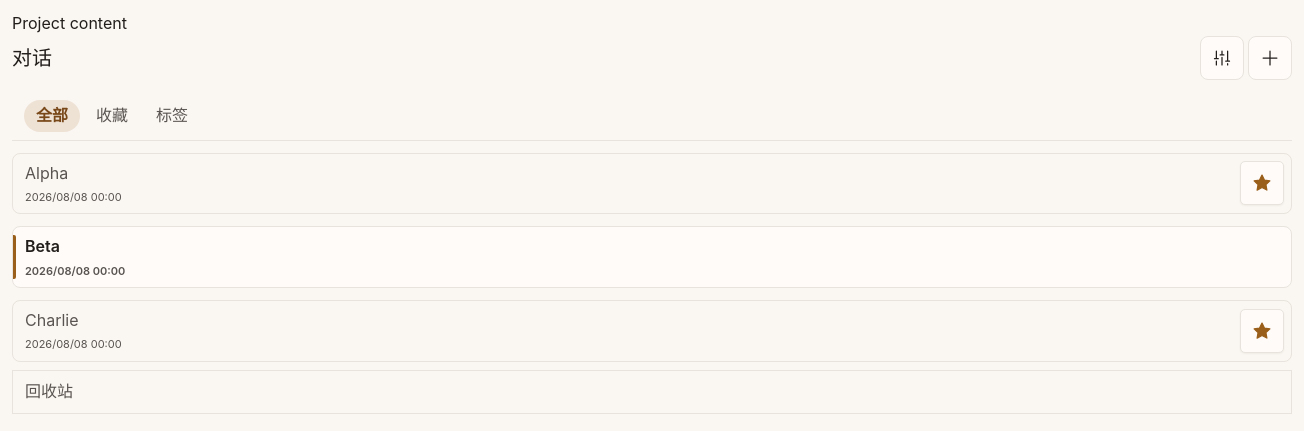
Test case: thread favorites UI › filters the favorites view with server order, removes unfavorited threads, and shows an empty state
Expected: the button "Beta 2026/08/08 00:00" is shown, [12,226,1292,288]
Click the tab "收藏" at (112,116), box [84,100,140,132]
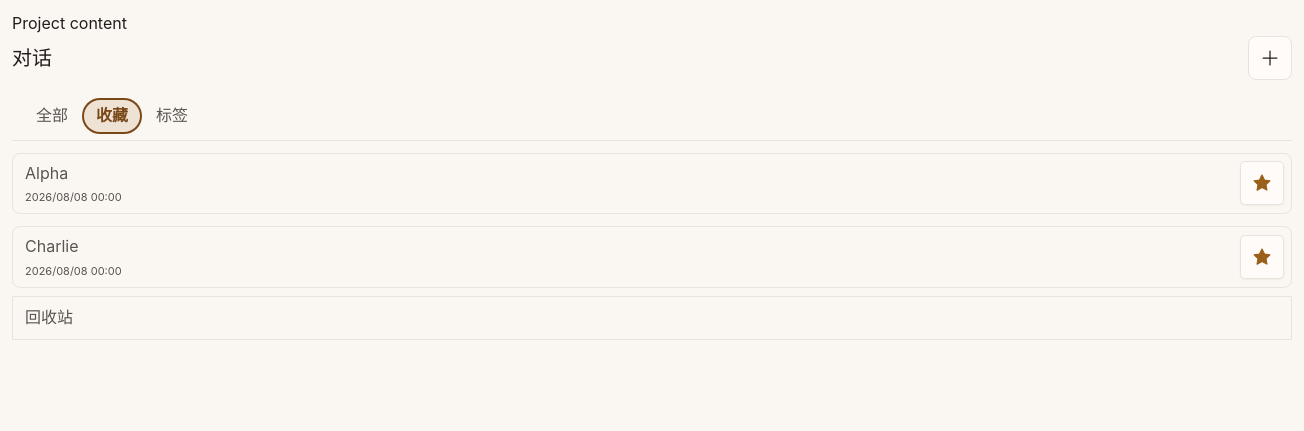
Expected: the button "Alpha 2026/08/08 00:00" is shown, [12,152,1292,214]
Now the button "Beta" is gone
Click the button named "取消收藏 Alpha" at (1262,183), box [1240,161,1284,205]
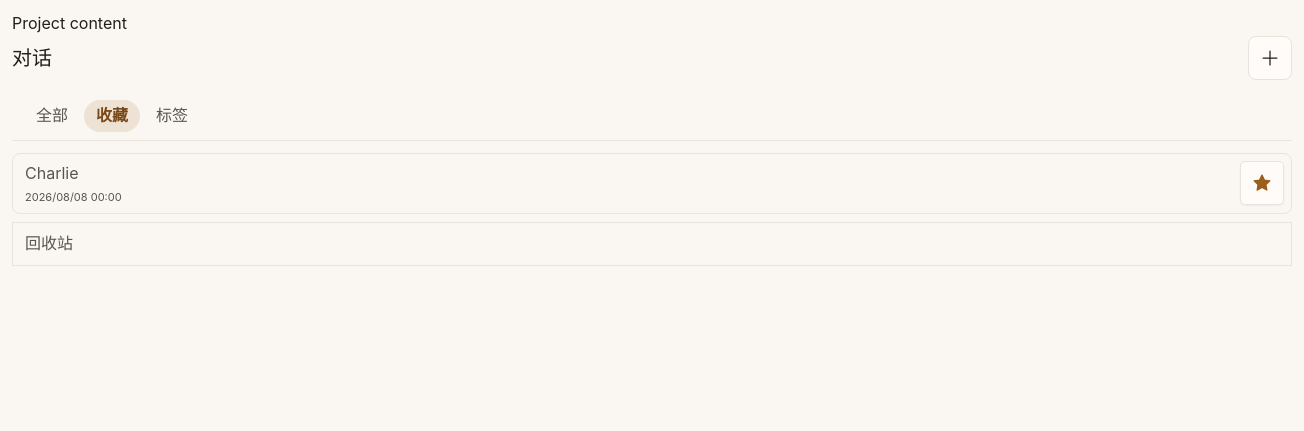
Now the button "Alpha" is gone
Click the button named "取消收藏 Charlie" at (1262,183), box [1240,161,1284,205]
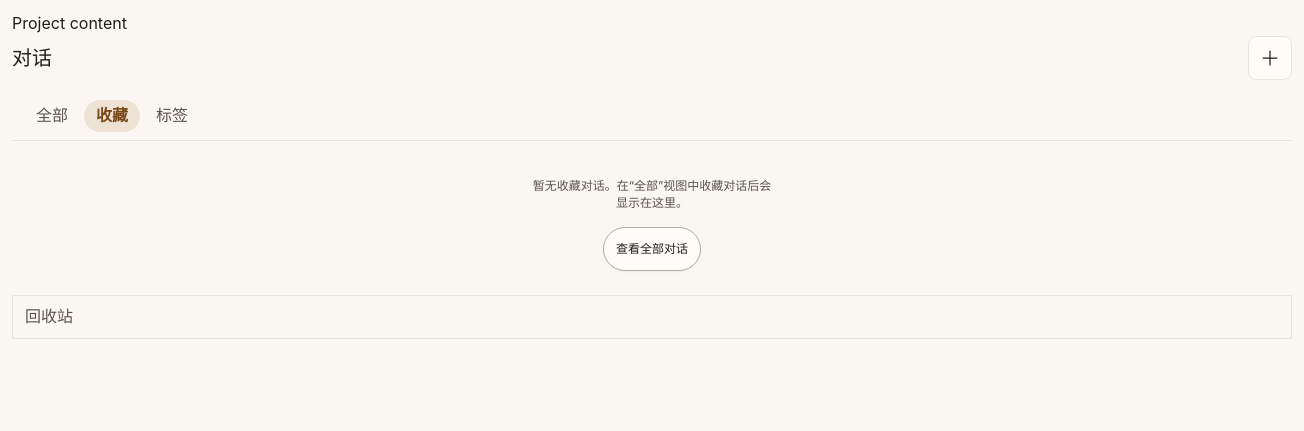
Now the text "暂无收藏对话。在“全部”视图中收藏对话后会显示在这里。" is shown, box [532,176,772,211]
Click the button "查看全部对话" at (652,249), box [603,227,701,271]
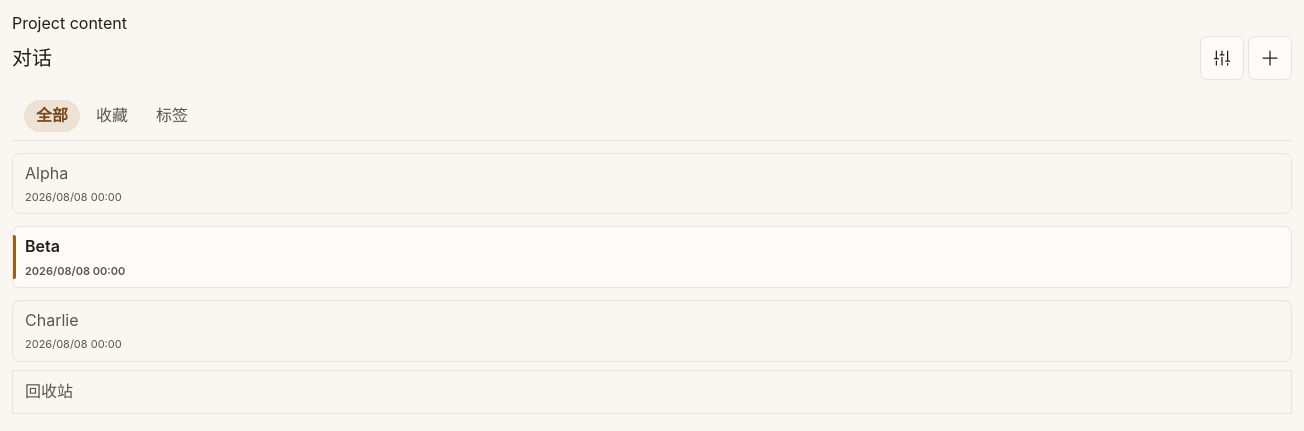
Now the button "Beta 2026/08/08 00:00" is shown, box [12,226,1292,288]
